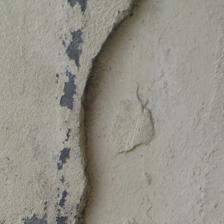Crack: (37, 2, 104, 221)
